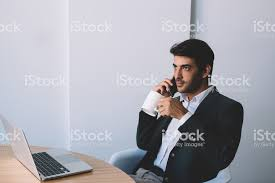Indian_Male: (172, 48, 204, 90)
